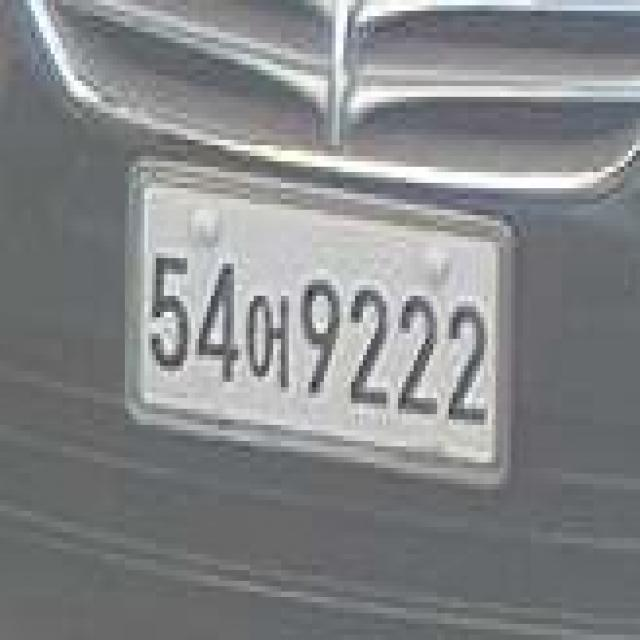2: (386, 285, 445, 430), (445, 290, 495, 446), (344, 263, 391, 425)
4: (195, 253, 238, 398)
5: (148, 242, 192, 387)
9: (296, 274, 344, 414)
eo: (242, 280, 289, 392)
license_plate: (113, 161, 519, 511)
